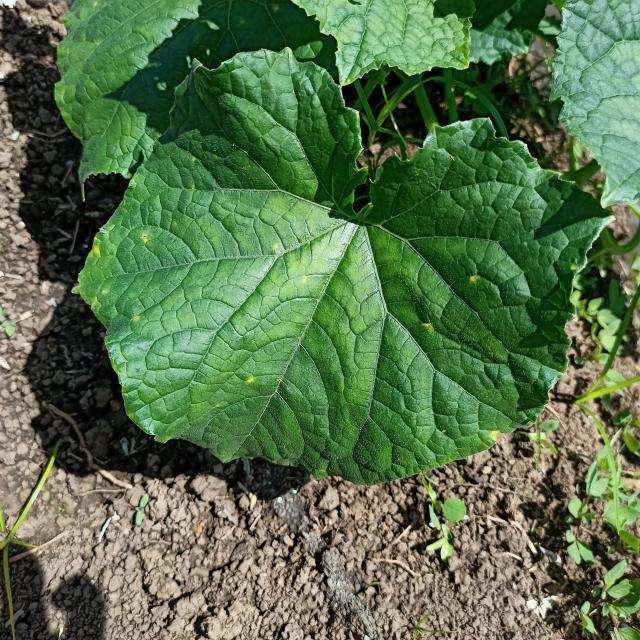disease_cucumber: (88, 238, 102, 256), (485, 429, 499, 438), (421, 322, 434, 329), (245, 376, 255, 384), (470, 274, 478, 282), (140, 235, 148, 242), (301, 277, 307, 283), (570, 264, 576, 270), (274, 244, 279, 249), (134, 316, 139, 320), (130, 178, 134, 183), (191, 187, 195, 190)
